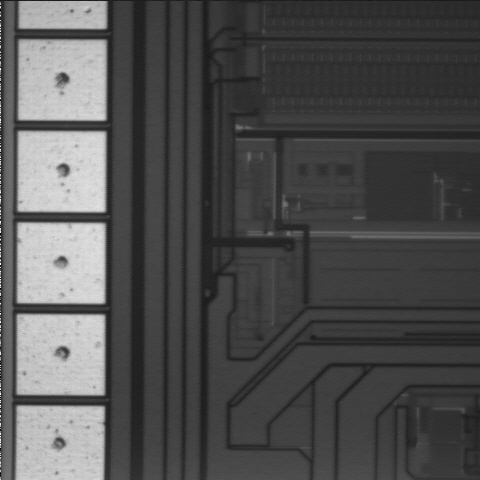pad: (18, 132, 105, 212), (18, 223, 105, 303), (17, 315, 104, 395), (19, 41, 106, 120)
